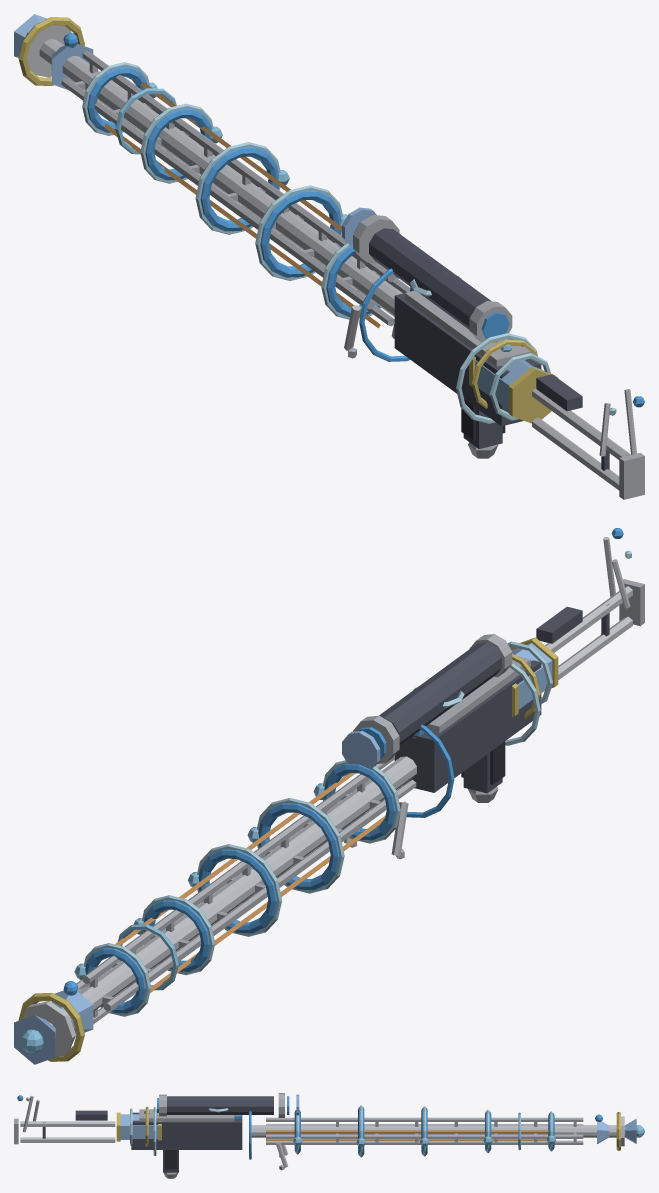
Rendered from arc9_longbow.glb.
3 renders of one model, top to bottom at view 1: azimuth 30°, elevation 25°; view 2: azimuth 150°, elevation 25°; view 3: azimuth 270°, elevation 25°, orthographic. The views are drawn at different scales.
Parts seen in each view (by area): view 1: arc9_longbow; view 2: arc9_longbow; view 3: arc9_longbow.
Boxes of the visible parts, x1,y1,x2,y2 form: arc9_longbow: (14, 14, 644, 499); arc9_longbow: (14, 528, 644, 1064); arc9_longbow: (14, 1093, 644, 1178).
Bounding box in the file's own units: 0.0739 × 0.12 × 0.796.
